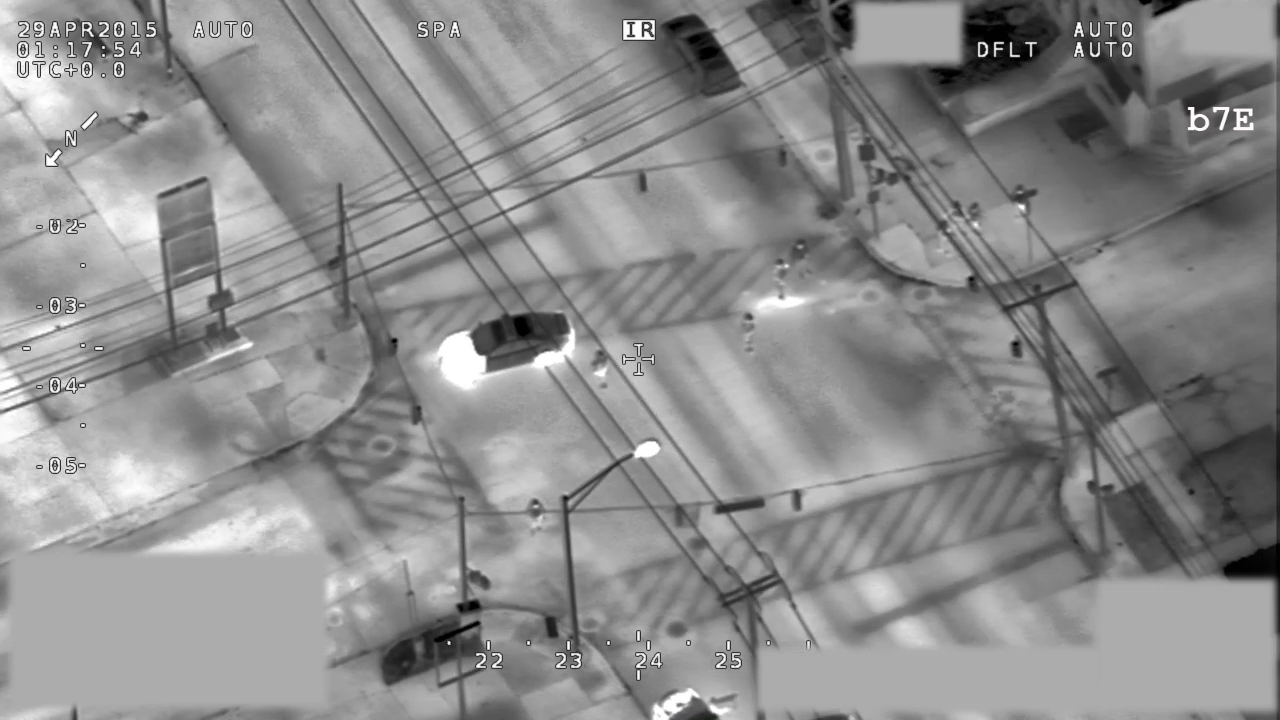vehicle: (432, 303, 580, 391), (657, 11, 744, 96)
